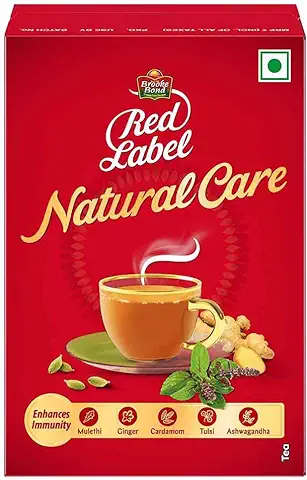Tea: (6, 6, 307, 479)
